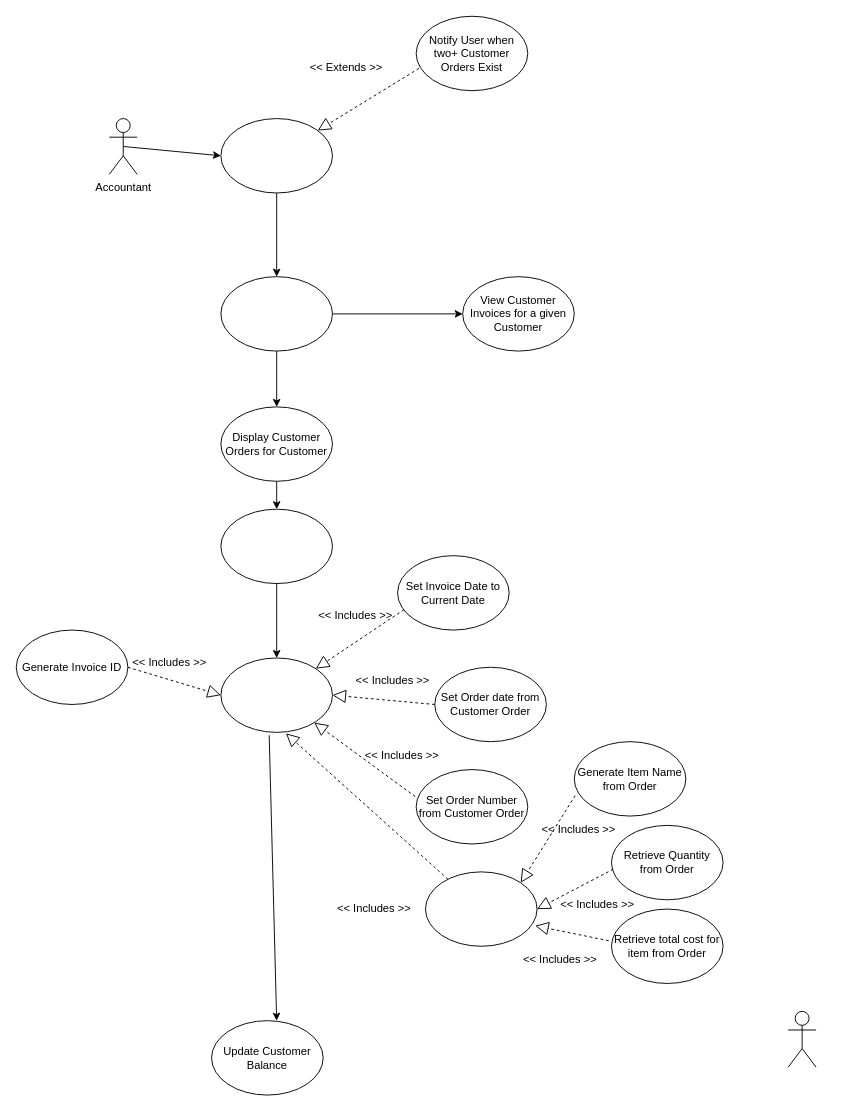
The diagram is 843 pixels wide and 1111 high, and some of its shapes have lost their labels. Here are the shapes that lost their labels. From the top down, the centre of each, then its label:
[276,155]: Log-in to page
[276,313]: Search for Customer
[276,546]: Select a Customer Order
[276,694]: Open Customer Invoice Creation Form
[481,908]: Generate Items from Order
[801,1038]: Customer
